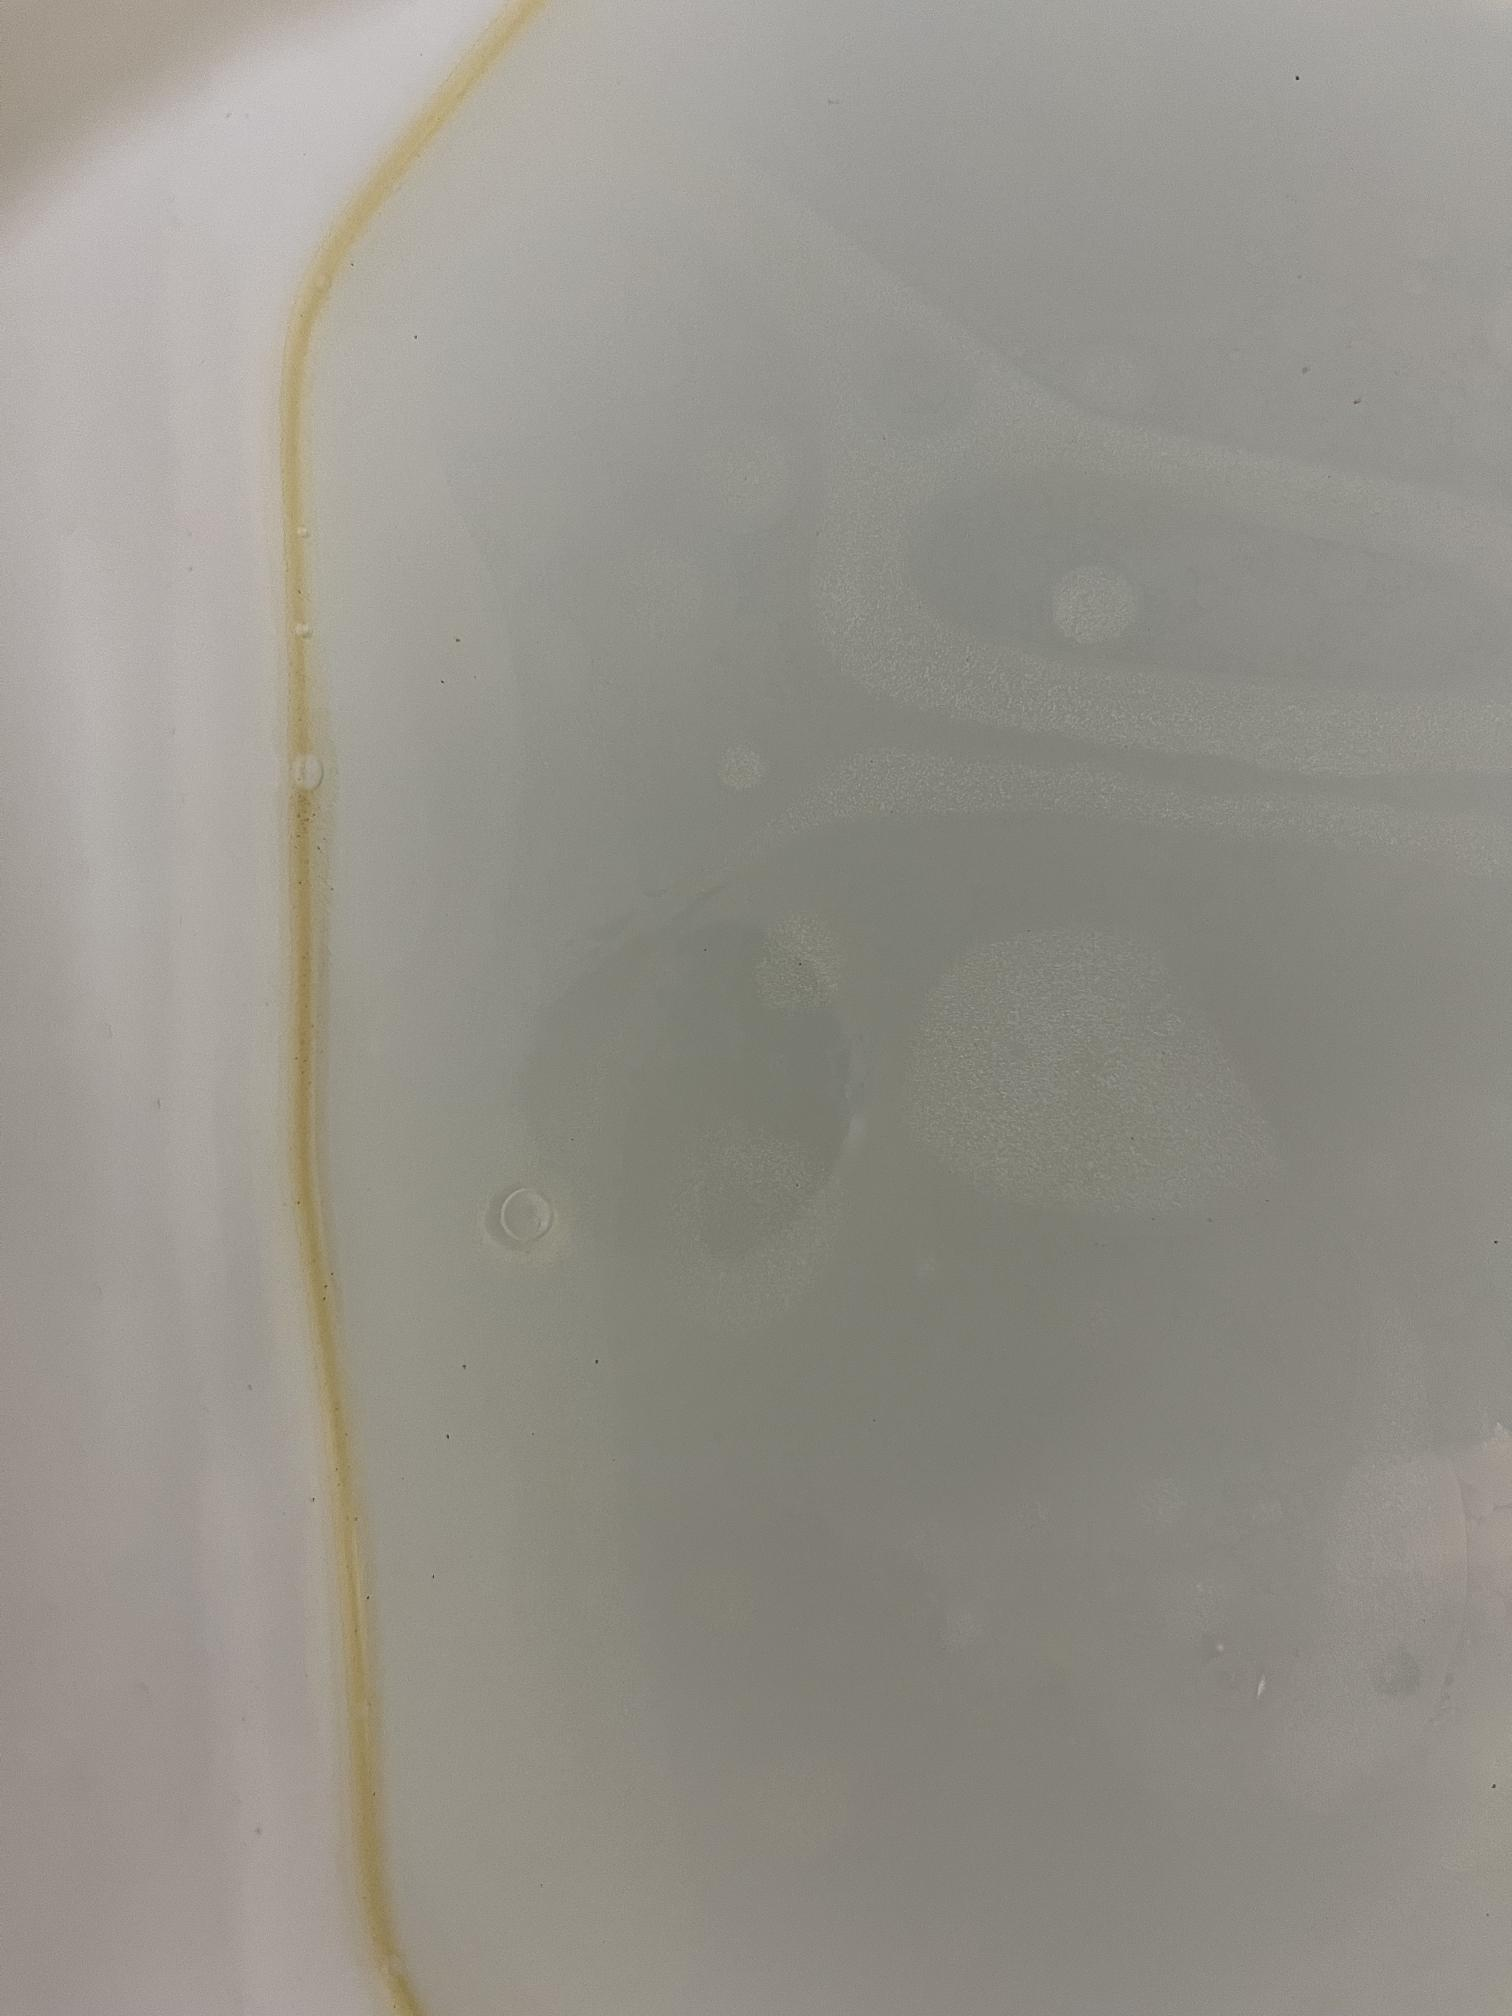Presenca de Oleo - - 10ml: (135, 114, 1436, 1949)
